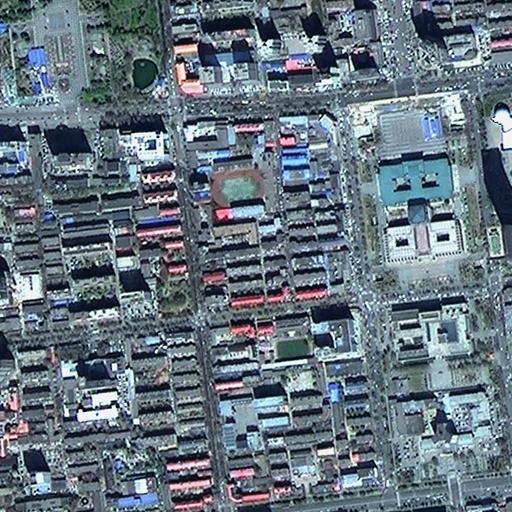school: (211, 116, 267, 225), (254, 317, 314, 369)
